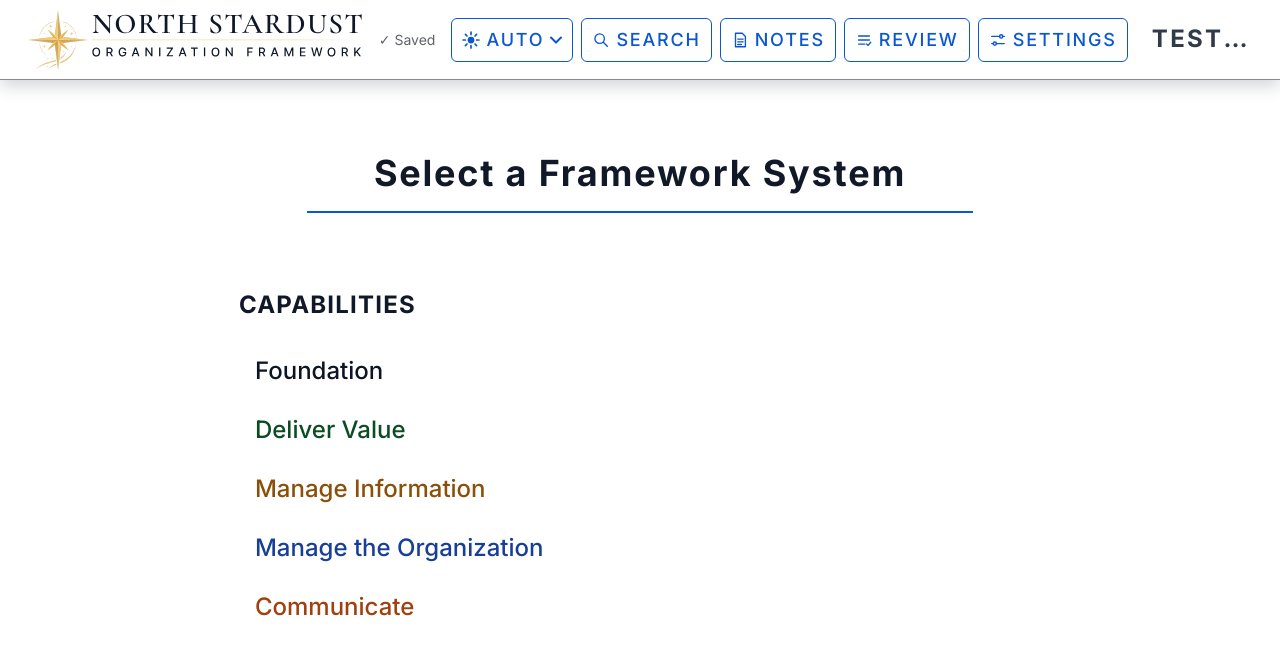
Test case: SystemSelection capability description and System opening › selects a capability on click and opens its description dialog, which Escape closes first
The image size is (1280, 651).
Click the button "Foundation": (319,370) [255, 356, 383, 385]
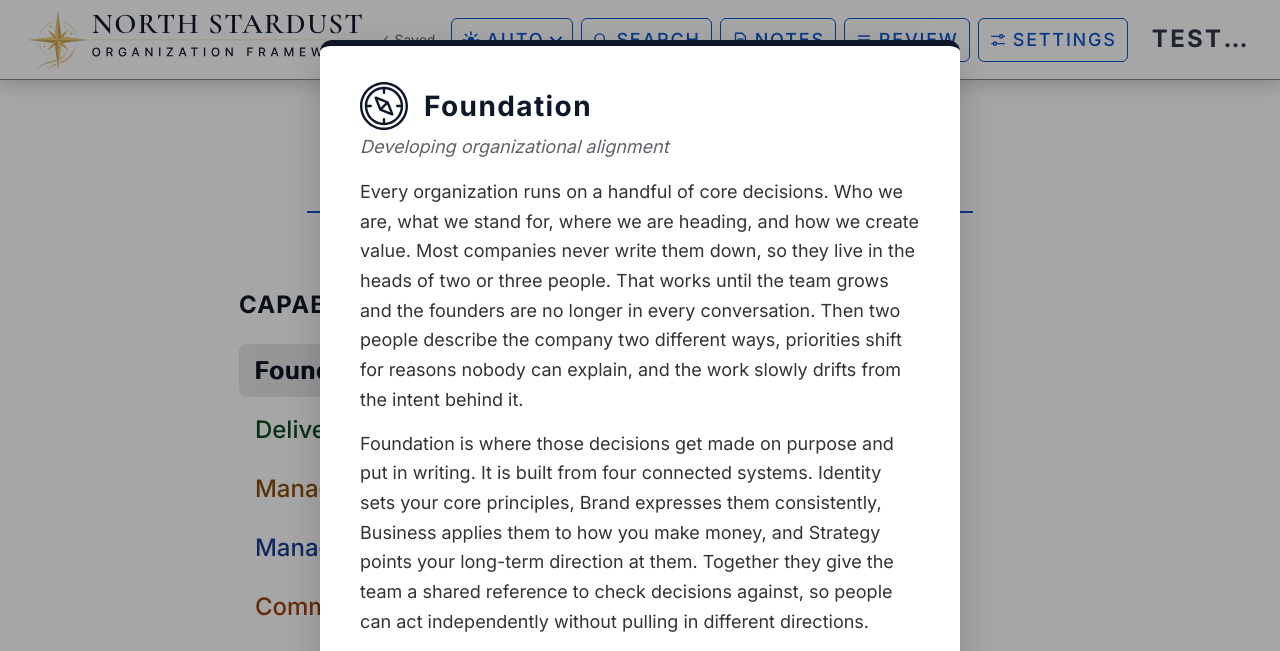
Now the text "Developing organizational alignment" is shown, box [360, 136, 669, 157]
Now the button "01. Identity System not started" is shown, box [643, 356, 876, 403]
Press Escape
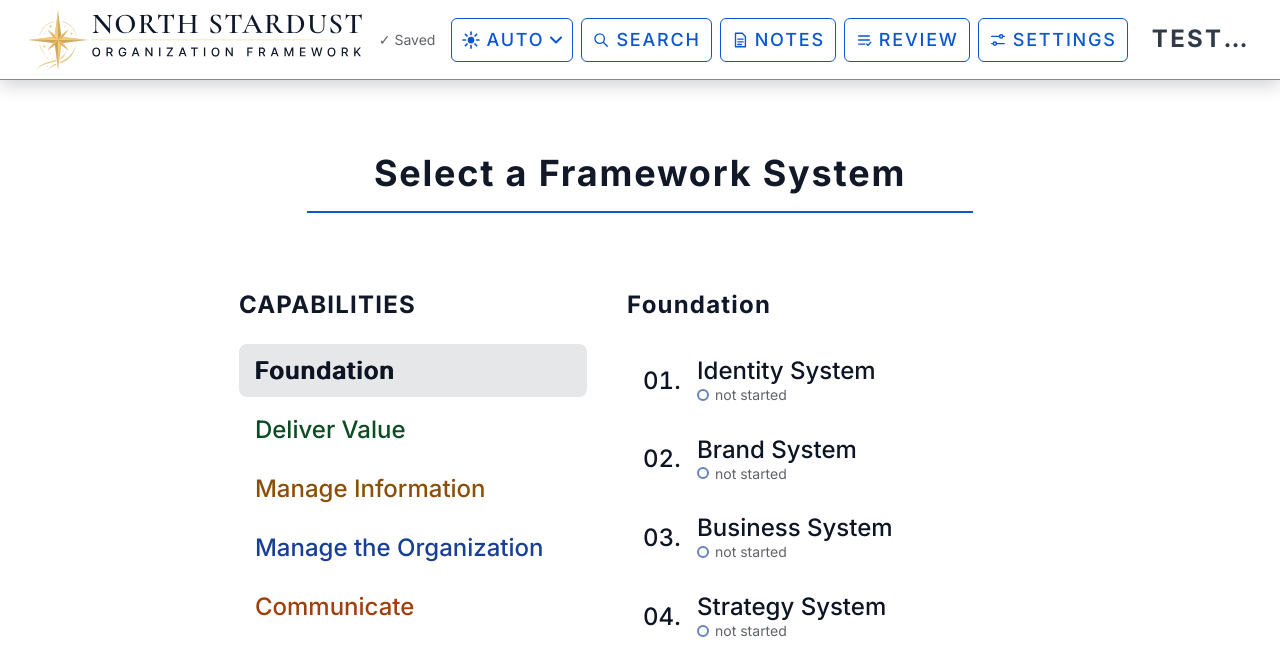
Now the button "01. Identity System not started" is shown, box [643, 356, 876, 403]
Now the text "Developing organizational alignment" is gone
